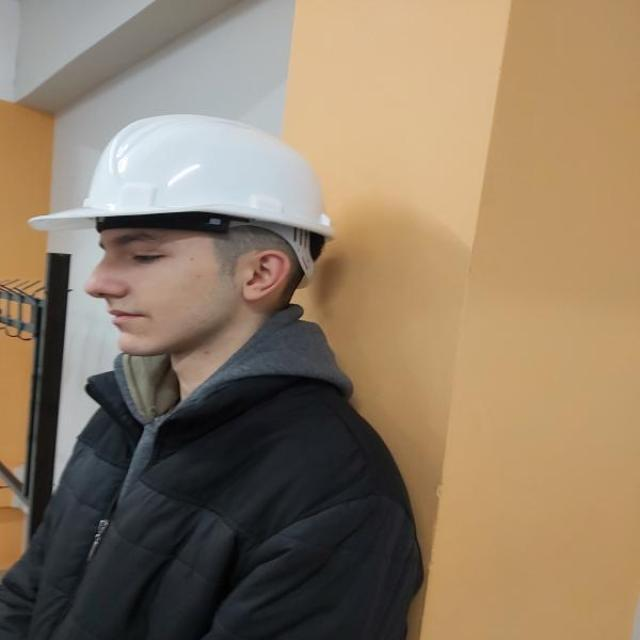helmet: (27, 112, 336, 242)
